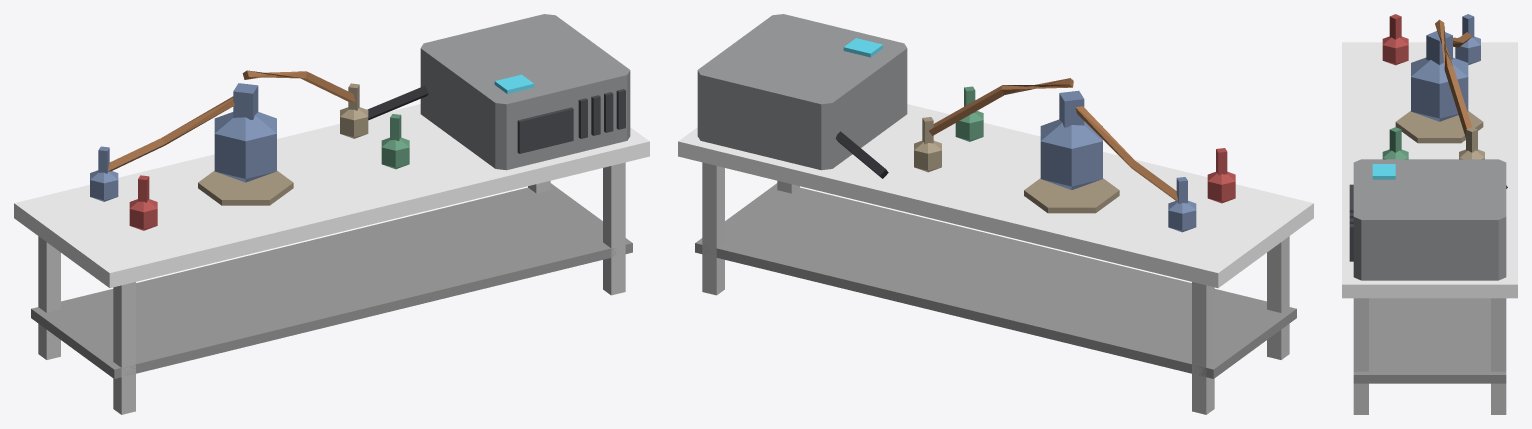
Rendered from vfem2_draught_lab_electric.obj.
3 renders of one model, left to right at view 1: azimuth 30°, elevation 25°; view 2: azimuth 150°, elevation 25°; view 3: azimuth 270°, elevation 25°, orthographic. The views are drawn at different scales.
Parts seen in each view (by area): view 1: vfem2_draught_lab_electric; view 2: vfem2_draught_lab_electric; view 3: vfem2_draught_lab_electric.
Boxes of the visible parts, box(x1,y1,x2,y2) form: vfem2_draught_lab_electric: box(14, 14, 649, 414); vfem2_draught_lab_electric: box(678, 14, 1313, 414); vfem2_draught_lab_electric: box(1342, 14, 1517, 414).
Bounding box in the file's own units: 3 × 1.42 × 0.92.
